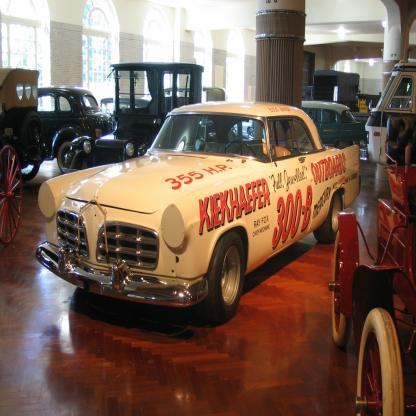Car: (36, 102, 364, 326), (38, 86, 115, 176), (302, 103, 359, 132)
